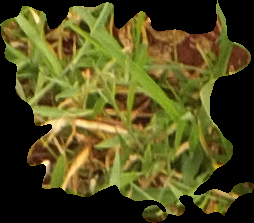grass: (1, 1, 252, 221)
